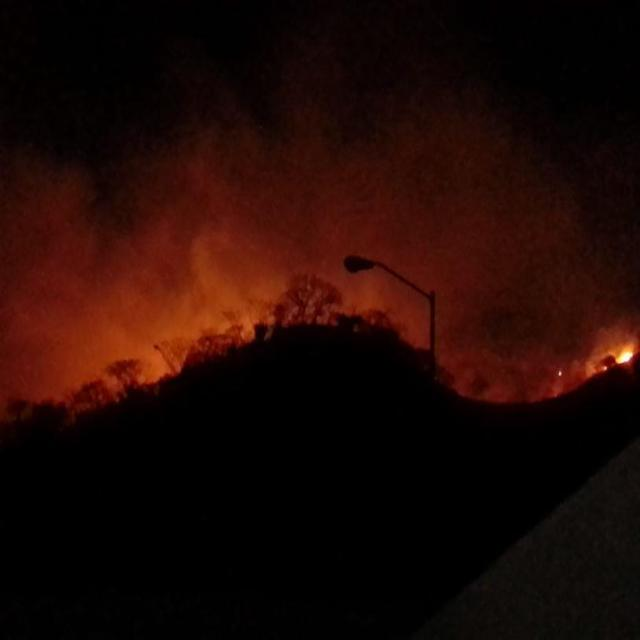Fire: (618, 335, 633, 367)
